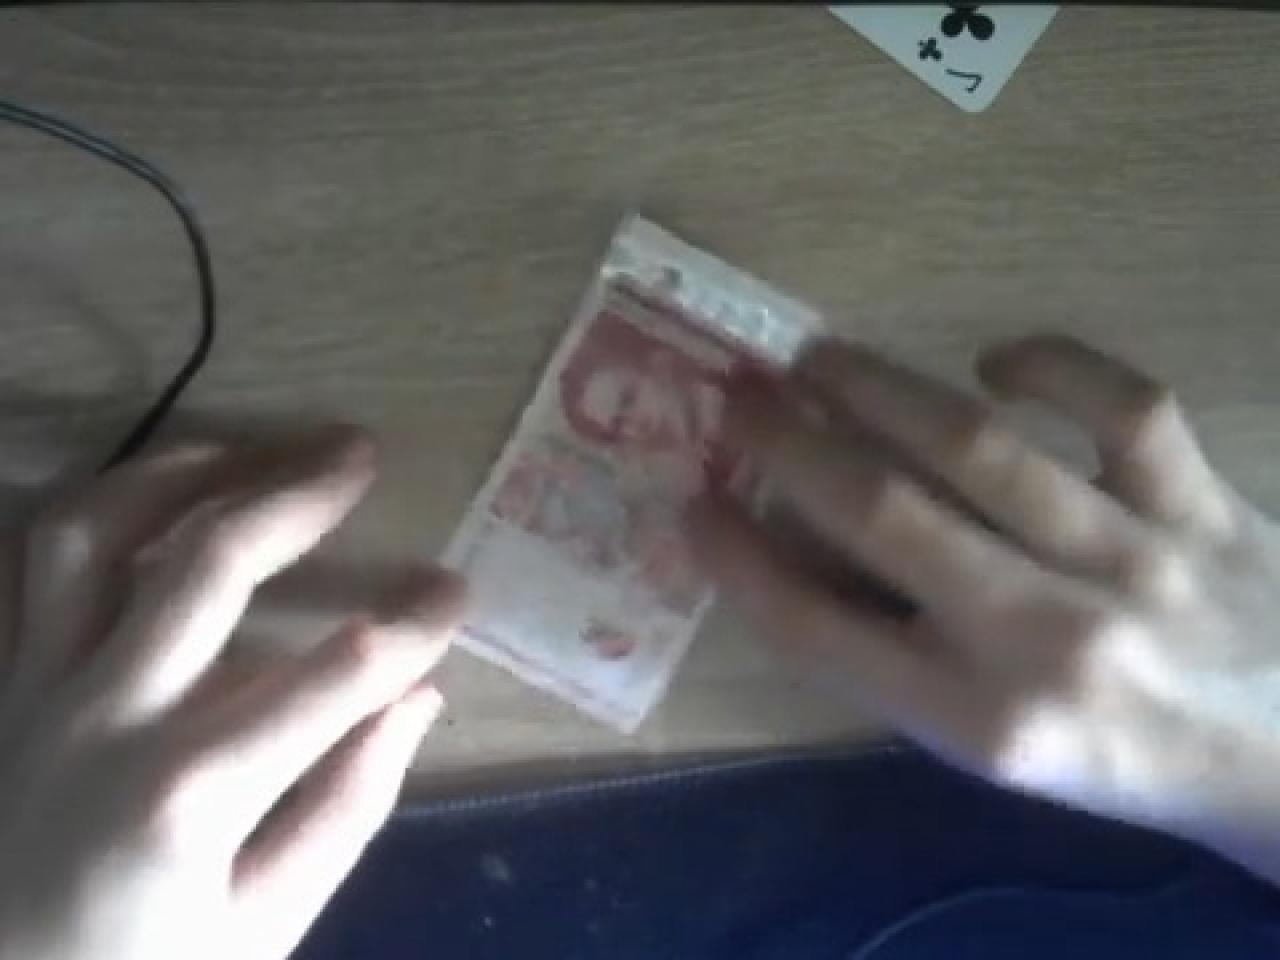5leva: (445, 211, 813, 731)
